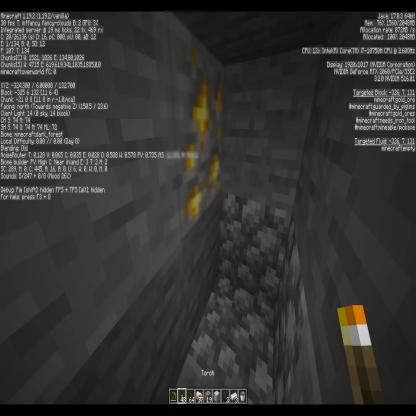gold ore: (164, 10, 227, 244)
